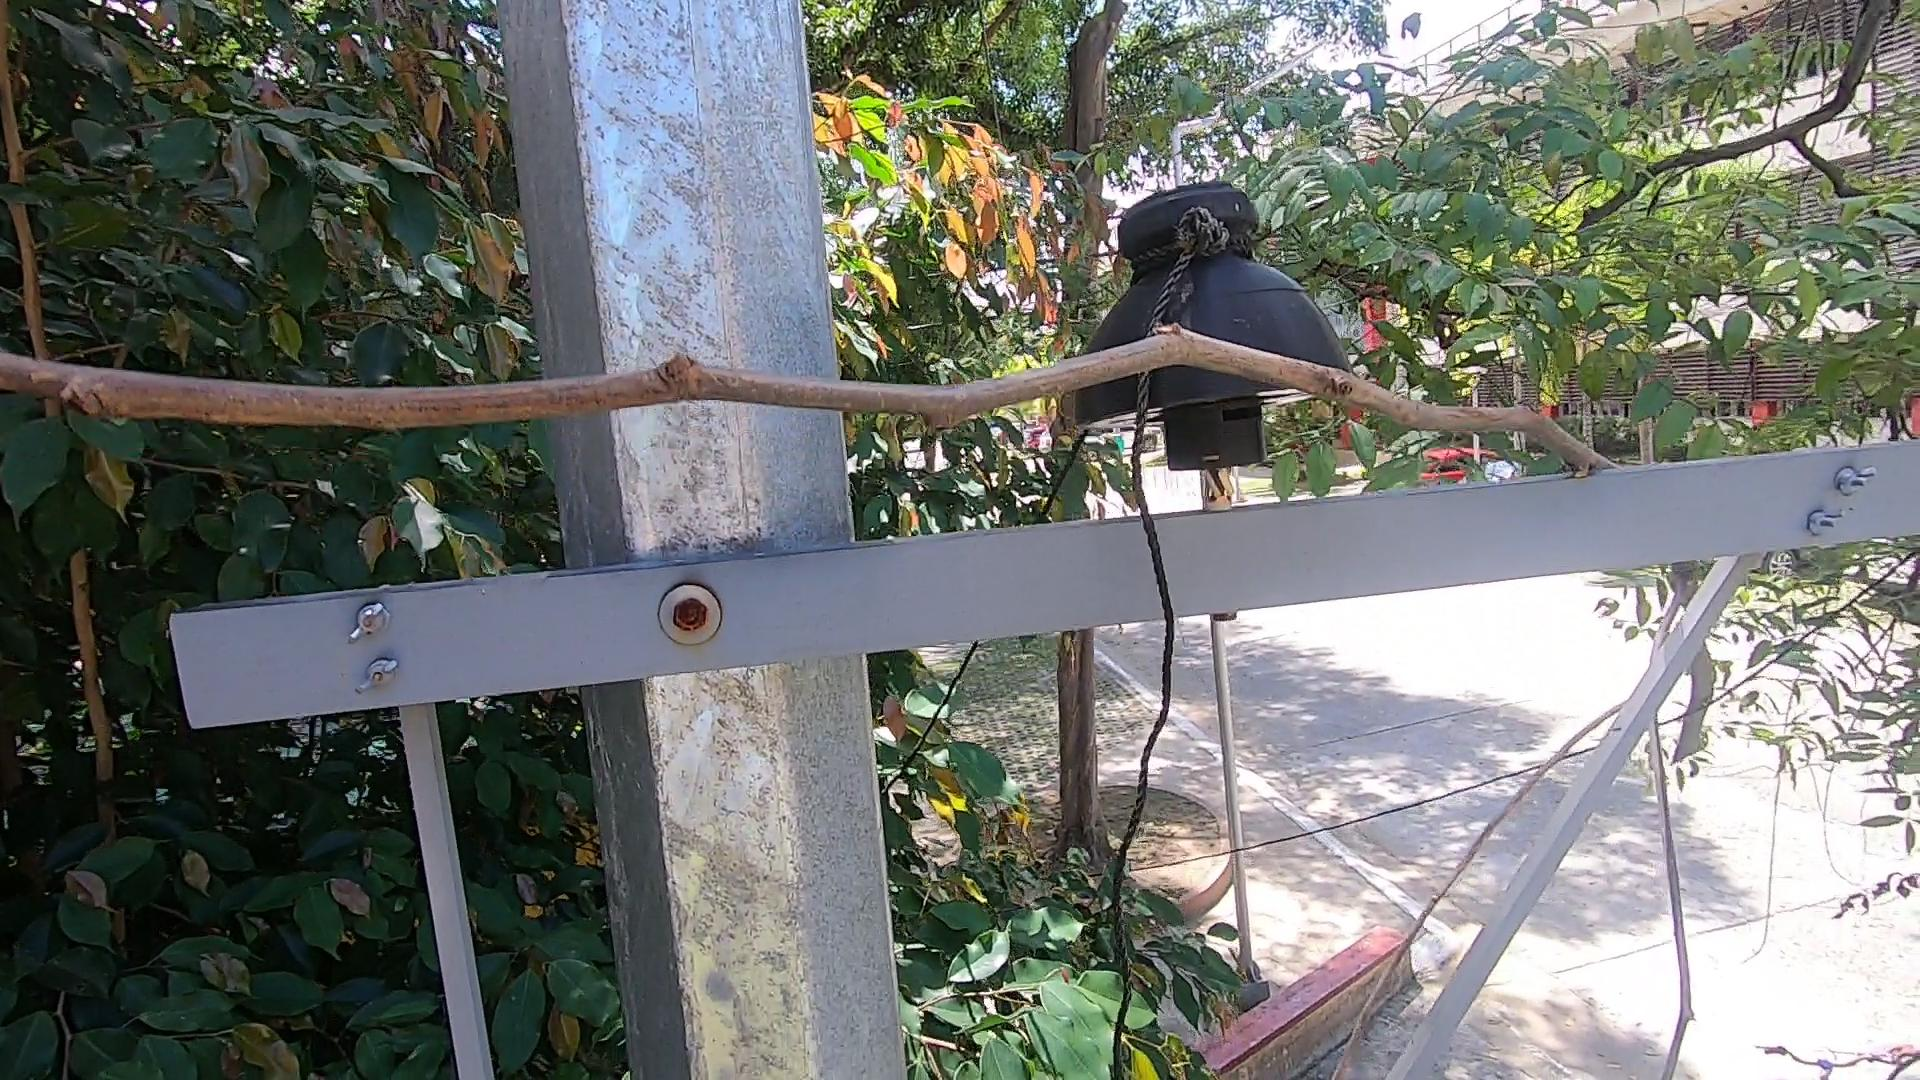tree branch: (12, 287, 1665, 549)
